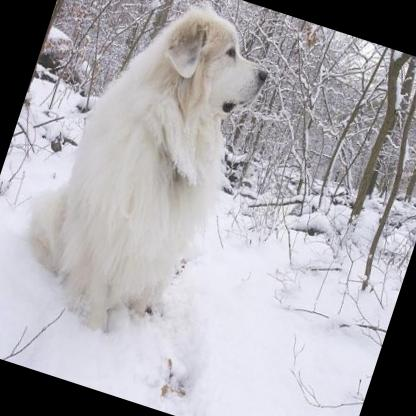Great_Pyrenees: (1, 0, 281, 356)
